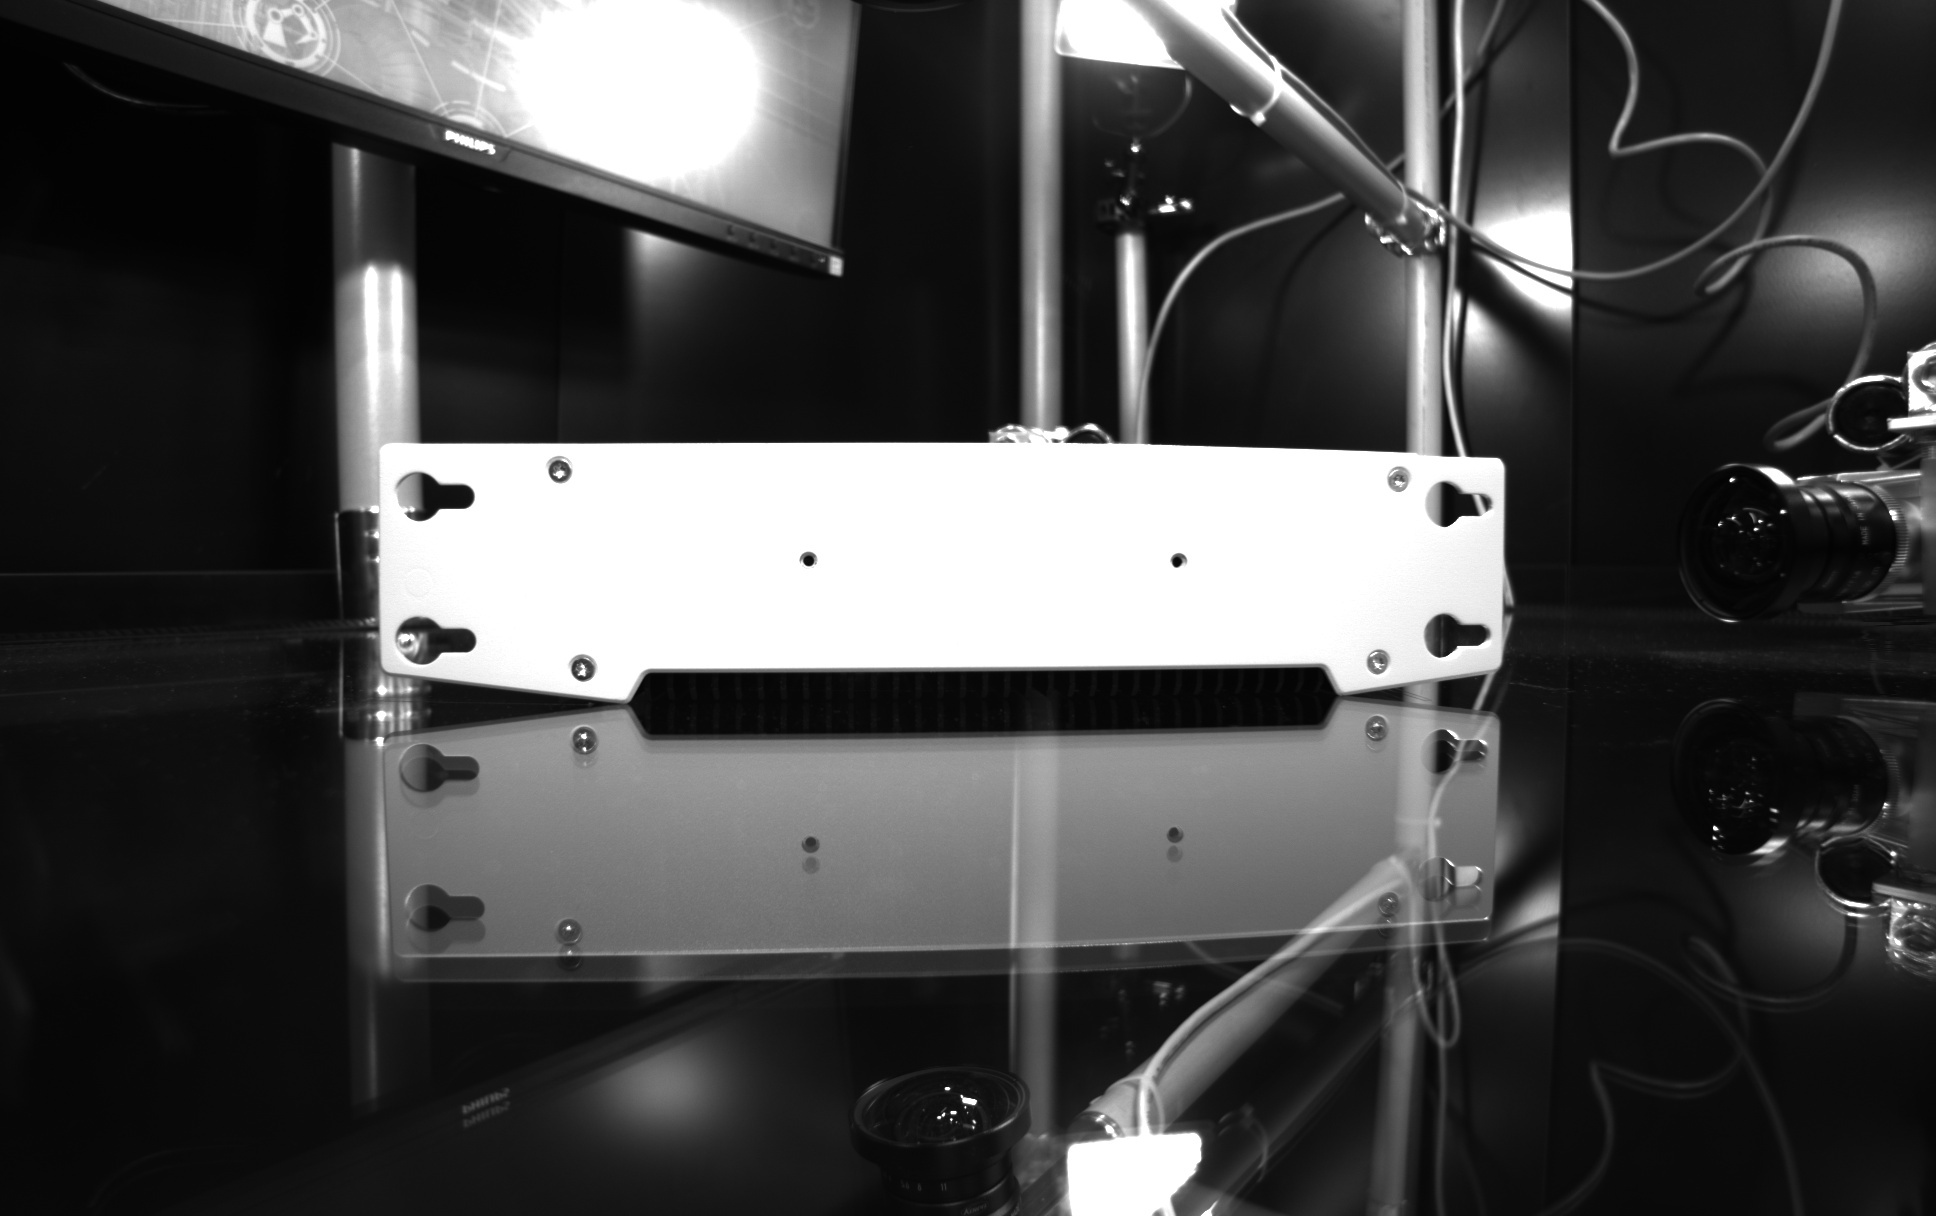CamBack: (343, 403, 1547, 705)
Schraube: (1357, 643, 1397, 684), (1378, 460, 1418, 500), (539, 451, 579, 490), (563, 647, 602, 686)
Schraube_gespiegelt: (545, 915, 591, 975), (1367, 885, 1406, 950), (1355, 709, 1399, 761), (563, 723, 605, 776)
